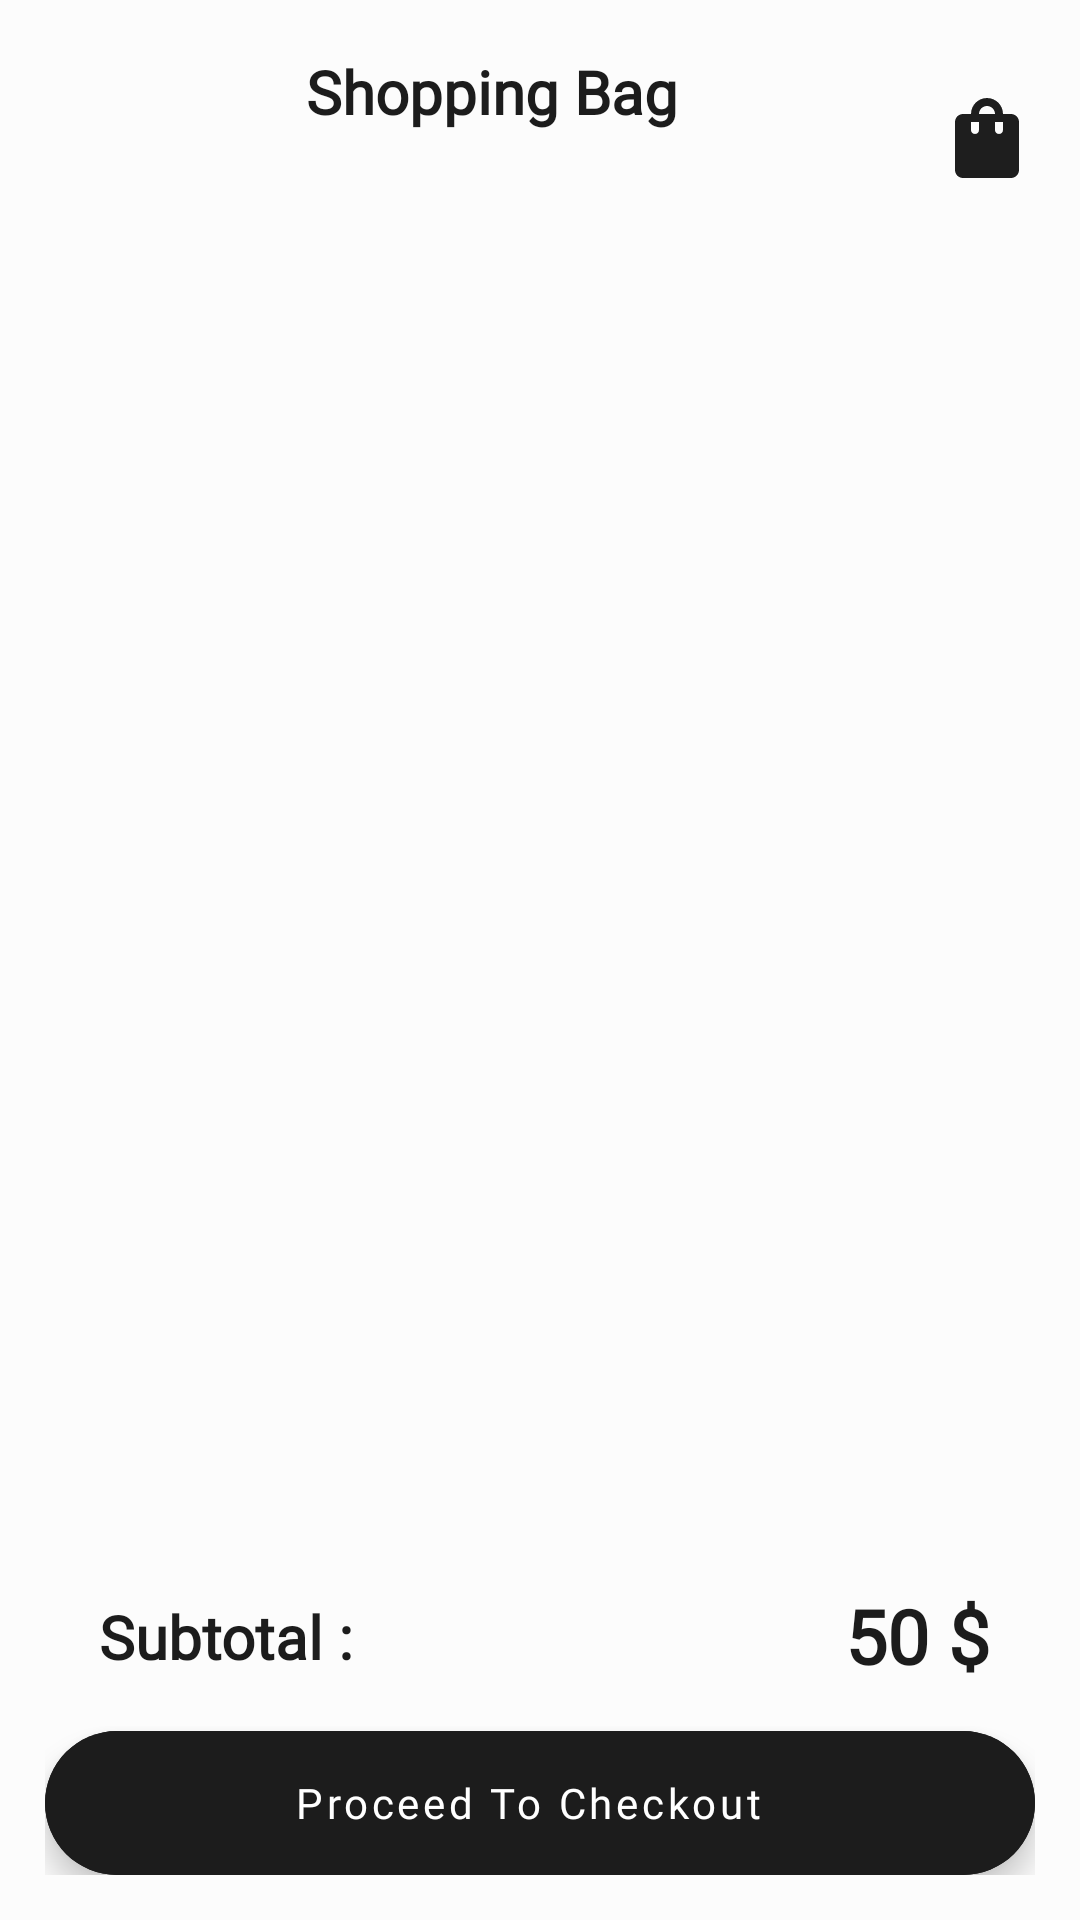

Point at icon controls on the screen. Image size 1080x1920, points as (x,y).
shopping bag: (987,138)
